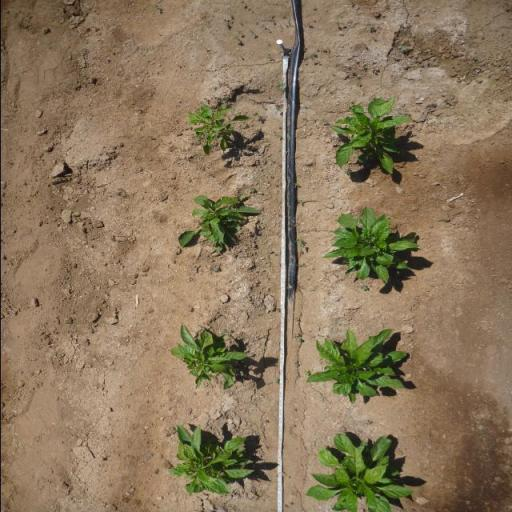plant: (303, 431, 416, 512), (310, 326, 412, 408), (321, 204, 422, 282), (164, 422, 258, 498), (325, 96, 415, 174), (167, 325, 250, 395), (173, 196, 264, 256), (184, 105, 248, 156)
weed: (248, 186, 263, 196), (294, 237, 306, 248), (198, 96, 211, 106), (292, 333, 302, 343), (274, 81, 284, 91), (222, 19, 232, 29), (274, 103, 283, 112), (399, 44, 409, 52), (250, 112, 263, 118), (219, 98, 228, 106), (292, 361, 302, 368), (309, 52, 316, 62), (269, 13, 275, 23), (272, 376, 279, 384), (208, 267, 219, 272), (296, 262, 305, 268), (302, 369, 309, 376), (265, 53, 272, 60), (221, 328, 229, 334), (360, 285, 368, 291), (334, 22, 346, 26), (293, 182, 299, 188), (232, 36, 238, 42), (248, 29, 254, 35), (366, 420, 372, 425), (345, 169, 351, 174), (256, 312, 262, 317), (293, 316, 298, 322), (297, 200, 303, 204)
